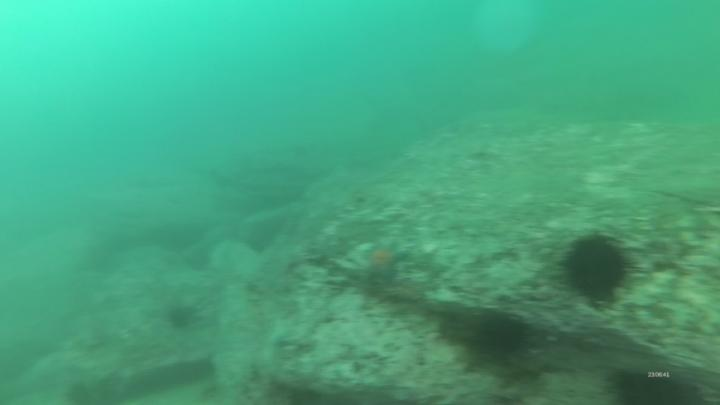echinus: (555, 230, 635, 305), (461, 302, 541, 366), (609, 366, 711, 405)
starfish: (364, 237, 412, 281)
